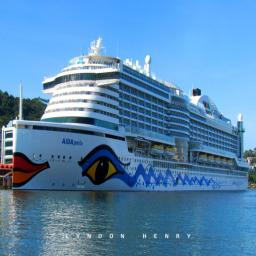cruises: (10, 34, 253, 200)
